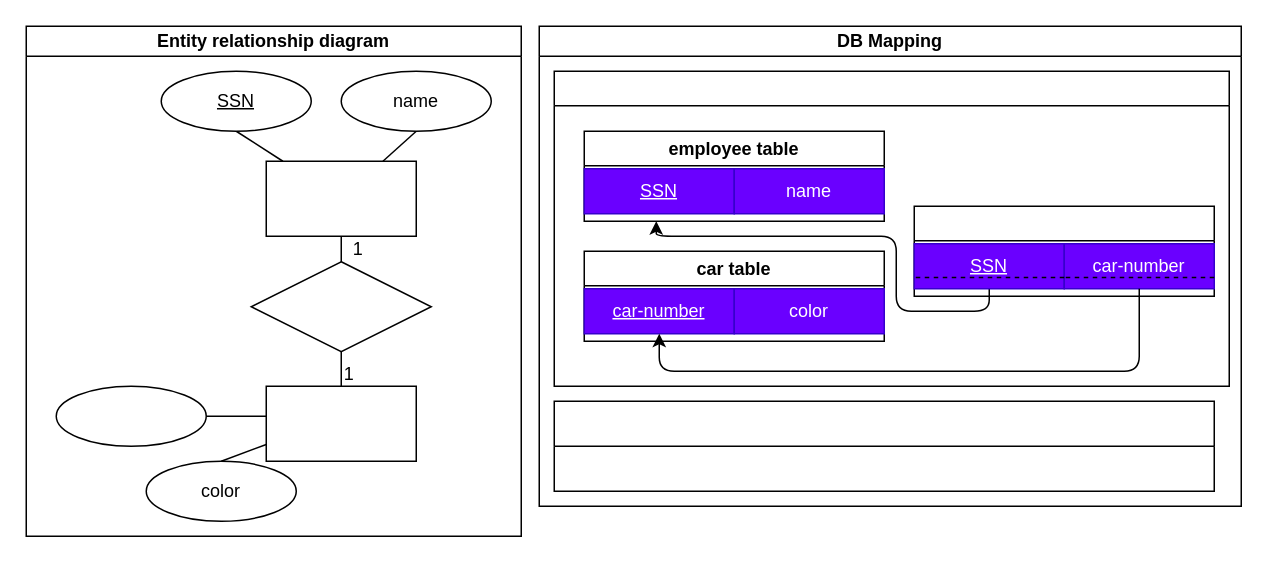
Image size: 1268x563. Some labels were removed from this diagram. The box of each missing label's shape, as (x1, y1, x2, y2) in pixels:
car: (265, 385, 416, 461)
constraints file: (553, 400, 1214, 491)
employee: (265, 160, 416, 236)
employee-own-car table: (913, 205, 1214, 296)
has: (250, 260, 431, 352)
Mapping: (553, 70, 1229, 386)
number: (55, 385, 206, 446)
